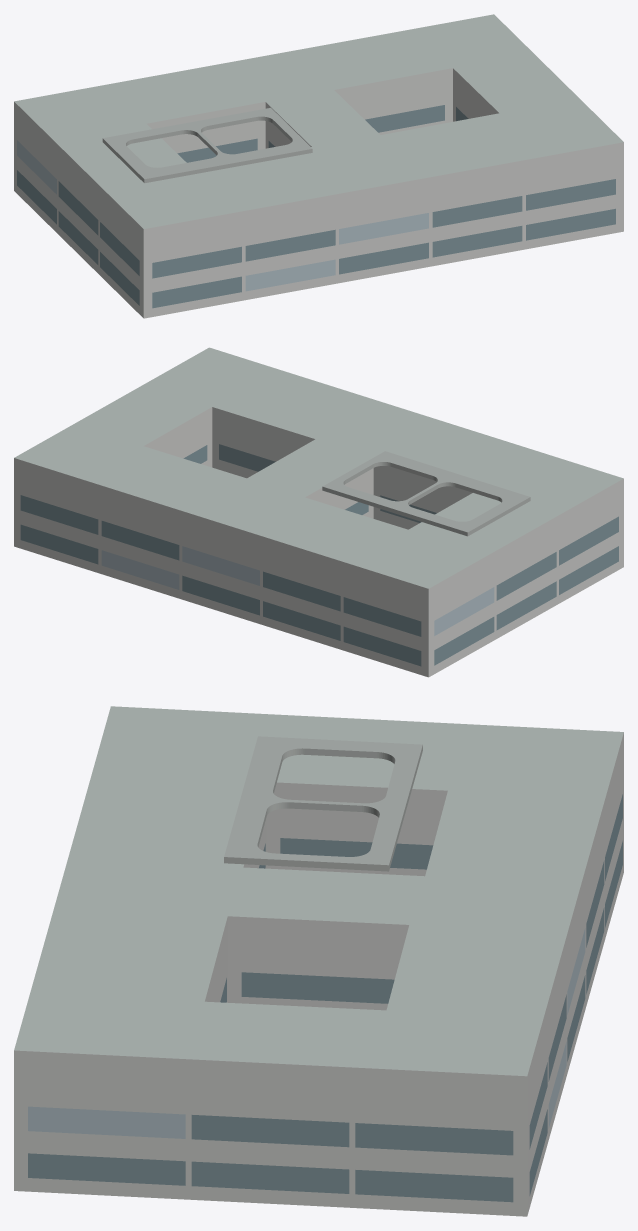
The model's file is named-apt-62a87e3c-cb87-418c-893d-0c53771a8264.glb.
3 views of the same model, one above another, from view 1: azimuth 30°, elevation 25°; view 2: azimuth 150°, elevation 25°; view 3: azimuth 270°, elevation 25° (orthographic). The views are drawn at different scales.
Parts seen in each view (by area): view 1: named-apt-62a87e3c-cb87-418c-893d-0c53771a8264; view 2: named-apt-62a87e3c-cb87-418c-893d-0c53771a8264; view 3: named-apt-62a87e3c-cb87-418c-893d-0c53771a8264.
Part boxes in pixels (left/top/right/bottom): named-apt-62a87e3c-cb87-418c-893d-0c53771a8264: left=14, top=14, right=623, bottom=318; named-apt-62a87e3c-cb87-418c-893d-0c53771a8264: left=14, top=347, right=623, bottom=677; named-apt-62a87e3c-cb87-418c-893d-0c53771a8264: left=14, top=706, right=623, bottom=1216.
Size of the model in its own units: 51.71 by 9.56 by 36.02.
